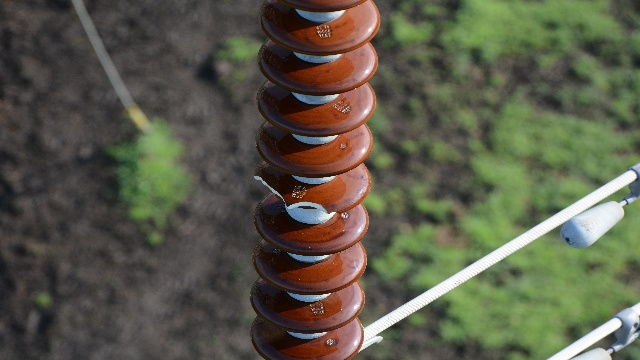broken_local: (251, 170, 333, 217)
insulator_unspecified: (250, 1, 383, 359)
